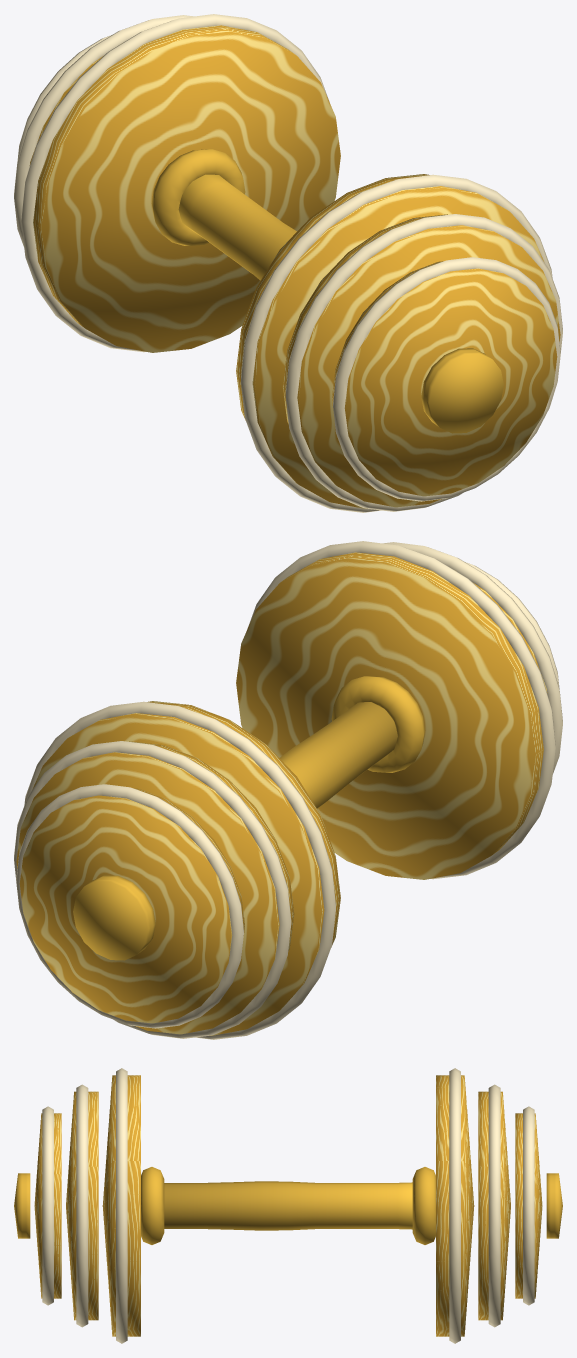
The model's file is GoldenDumbbell.glb.
The picture shows the model from 3 angles, top to bottom: view 1: azimuth 30°, elevation 25°; view 2: azimuth 150°, elevation 25°; view 3: azimuth 270°, elevation 25°; orthographic projection. The views are drawn at different scales.
Parts seen in each view (by area): view 1: GoldenDumbbell; view 2: GoldenDumbbell; view 3: GoldenDumbbell.
Boxes of the visible parts, <box> form: GoldenDumbbell: <box>14,14,562,512</box>; GoldenDumbbell: <box>14,541,562,1039</box>; GoldenDumbbell: <box>14,1068,562,1343</box>.
Bounding box in the file's own units: 1.01 × 1.01 × 2.01.
1 material, 1 textured.
